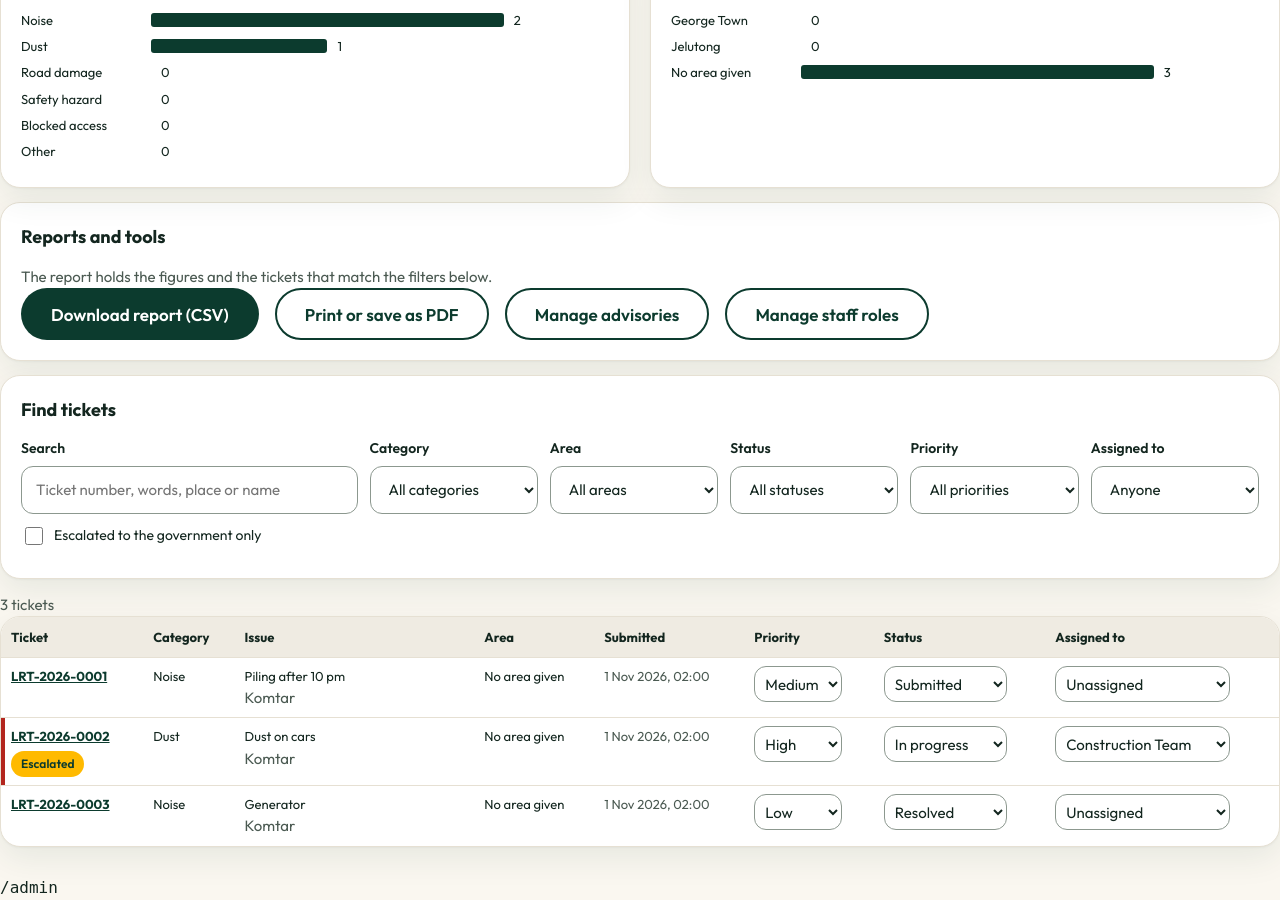
Test: dashboard: changing a ticket from the list (UC05 to UC07) › puts the old value back when saving fails
(page scrolled)
Select "Resolved" in the dropdown named "Status for LRT-2026-0001" at (945, 684), box 884,666 -> 1007,702
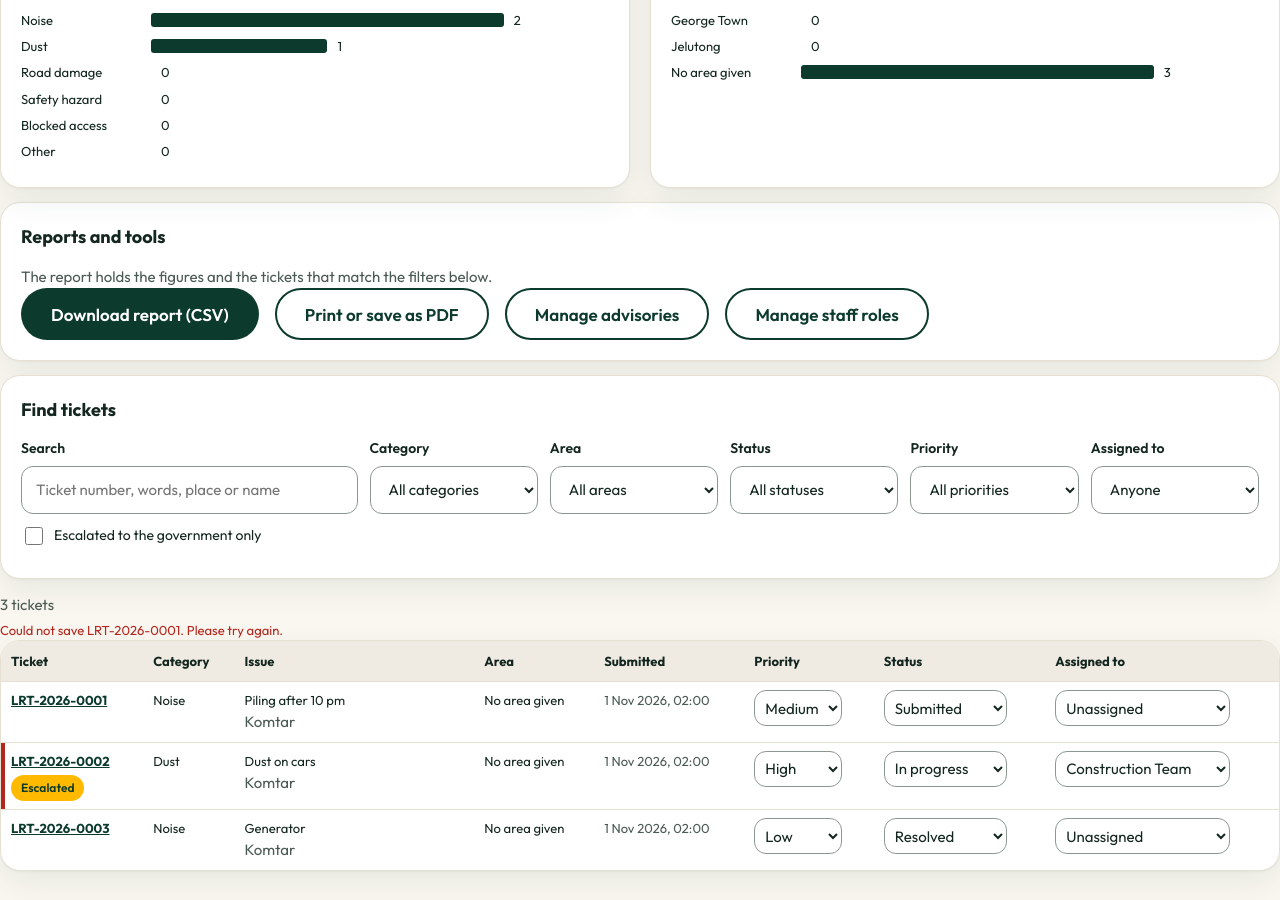
Result: the message "Could not save LRT-2026-0001. Please try again." is shown at 0,622 -> 283,638
